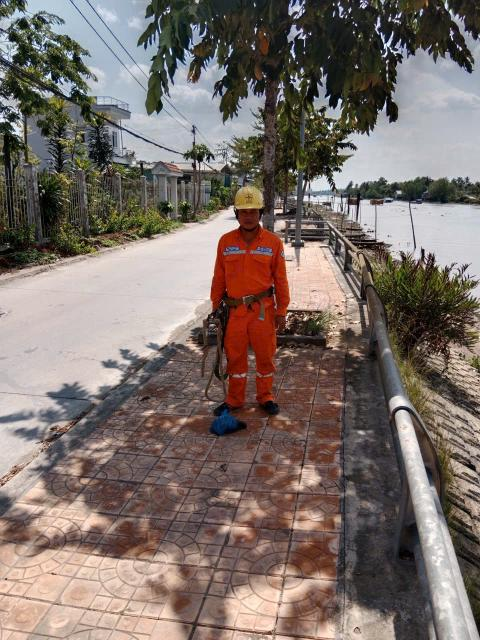harness: (210, 286, 281, 311)
helmet: (224, 184, 278, 225)
shoes: (208, 396, 242, 418), (256, 391, 286, 415)
